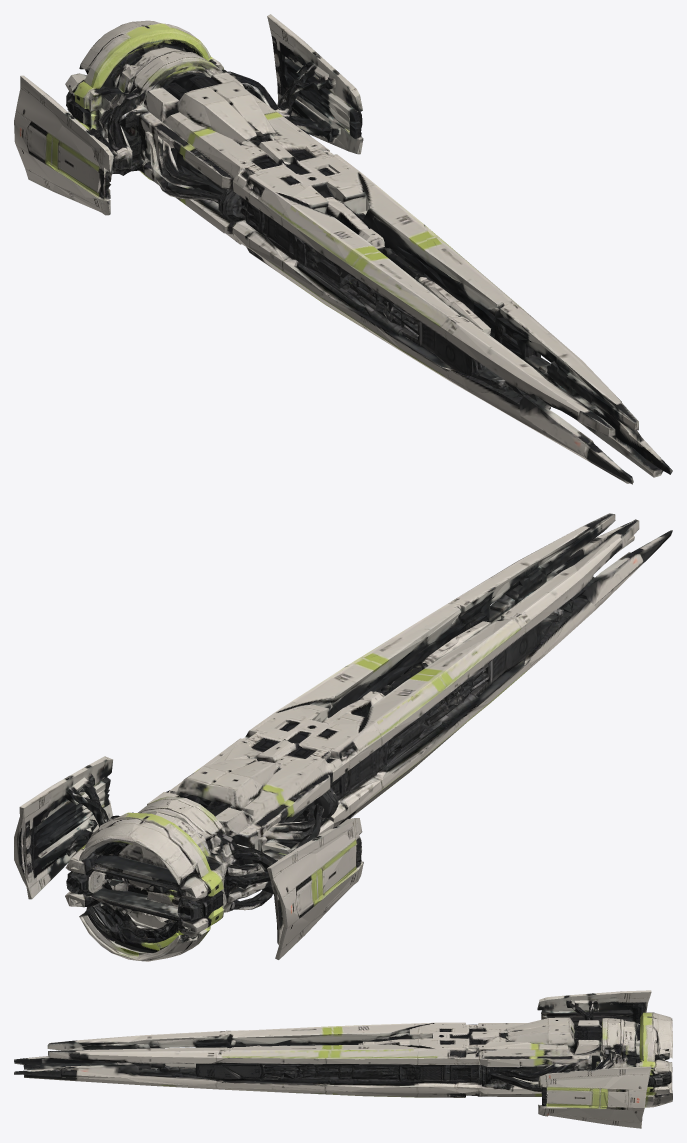
File: v4-sniper.glb
3 renders of one model, top to bottom at view 1: azimuth 30°, elevation 25°; view 2: azimuth 150°, elevation 25°; view 3: azimuth 270°, elevation 25°, orthographic. The views are drawn at different scales.
Parts seen in each view (by area): view 1: sniper_body_00; view 2: sniper_body_00; view 3: sniper_body_00.
Part boxes in pixels (x1,y1,x2,y2): sniper_body_00: [14, 14, 672, 484]; sniper_body_00: [14, 513, 672, 961]; sniper_body_00: [14, 990, 672, 1128].
Bounding box in the file's own units: 0.3009 × 0.1454 × 1.
1 material, 1 textured.
